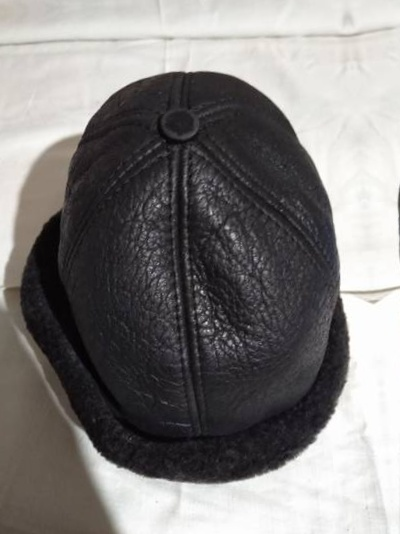Hat: (0, 27, 388, 483), (349, 0, 400, 450)
